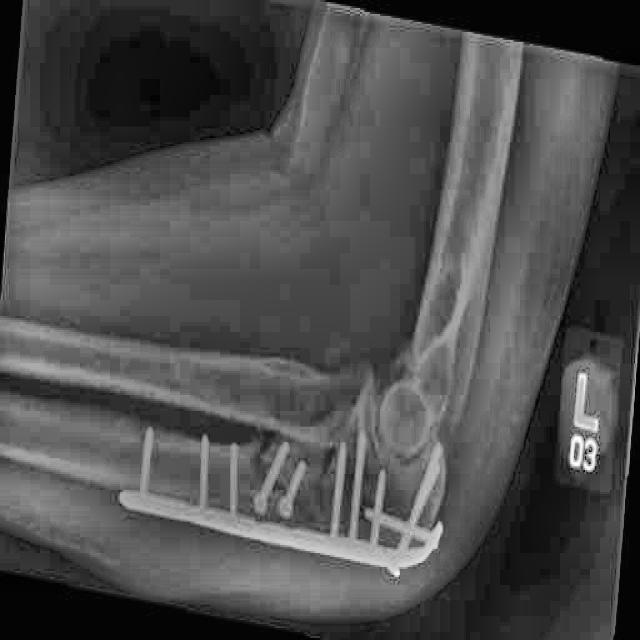elbow positive: (237, 430, 285, 490)
